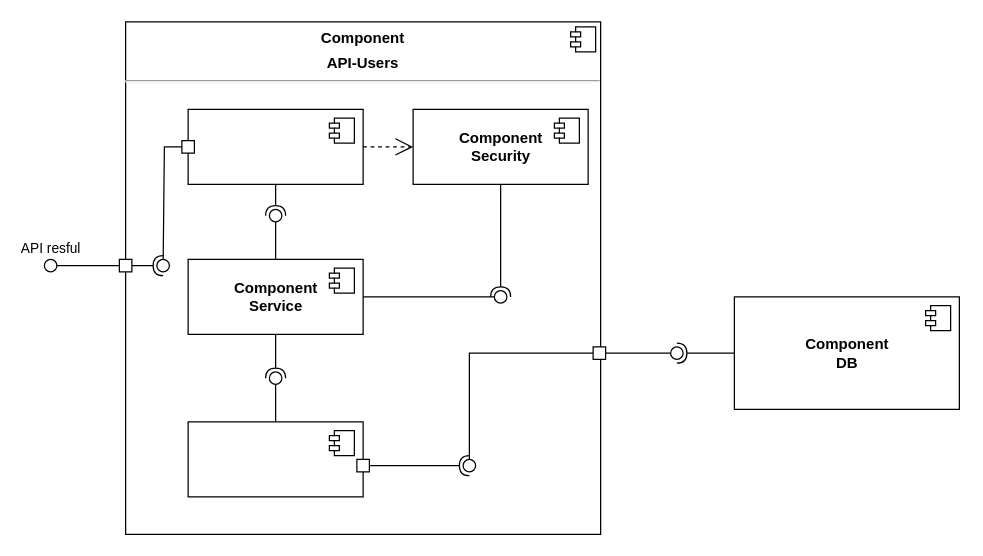
Some shapes in this 983 by 556 pixel diagram are drawn without their labels. Here are the shapes that lost their labels. From the top down, the centre of each, then its label:
point (275, 146): Component Controller
point (275, 459): Component Repoitory
